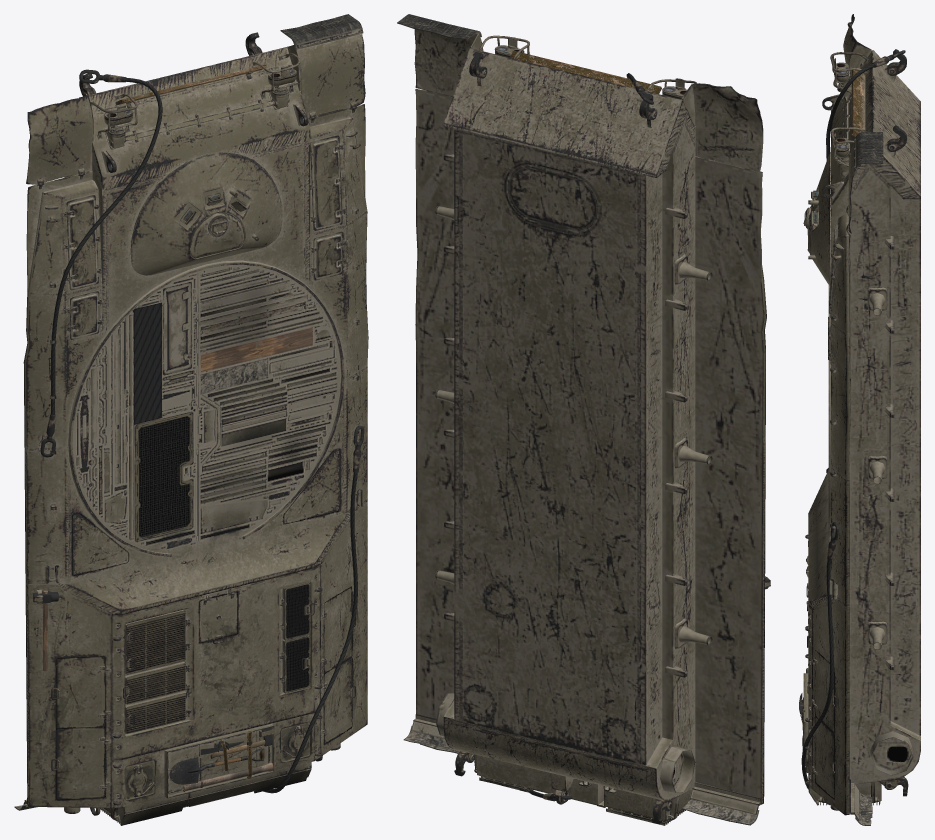
Rendered from Hull.glb.
3 views of the same model, side by side, from view 1: azimuth 30°, elevation 25°; view 2: azimuth 150°, elevation 25°; view 3: azimuth 270°, elevation 25° (orthographic). The views are drawn at different scales.
Parts seen in each view (by area): view 1: set_0_group_0; view 2: set_0_group_0; view 3: set_0_group_0.
Part boxes in pixels (left/top/right/bottom): set_0_group_0: left=14, top=14, right=368, bottom=825; set_0_group_0: left=397, top=14, right=770, bottom=825; set_0_group_0: left=799, top=14, right=920, bottom=825.
Bounding box in the file's own units: 3.54 × 7.29 × 1.17.
Materials: 1 (1 with a texture image).
